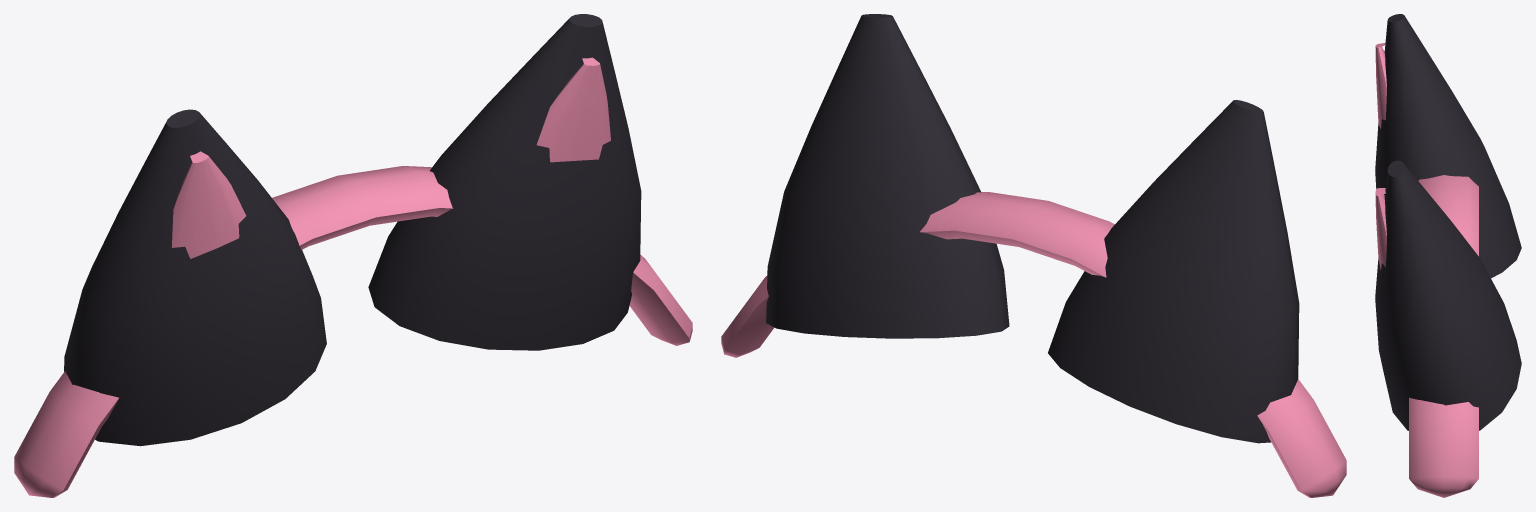
The model's file is hat_cat_ears.glb.
3 renders of one model, left to right at view 1: azimuth 30°, elevation 25°; view 2: azimuth 150°, elevation 25°; view 3: azimuth 270°, elevation 25°, orthographic. The views are drawn at different scales.
Parts seen in each view (by area): view 1: Hat; view 2: Hat; view 3: Hat.
Boxes of the visible parts, x1,y1,x2,y2 form: Hat: (14,14,692,497); Hat: (721,14,1346,497); Hat: (1375,14,1521,497).
Size of the model in its own units: 0.7371 by 0.3979 by 0.1849.
